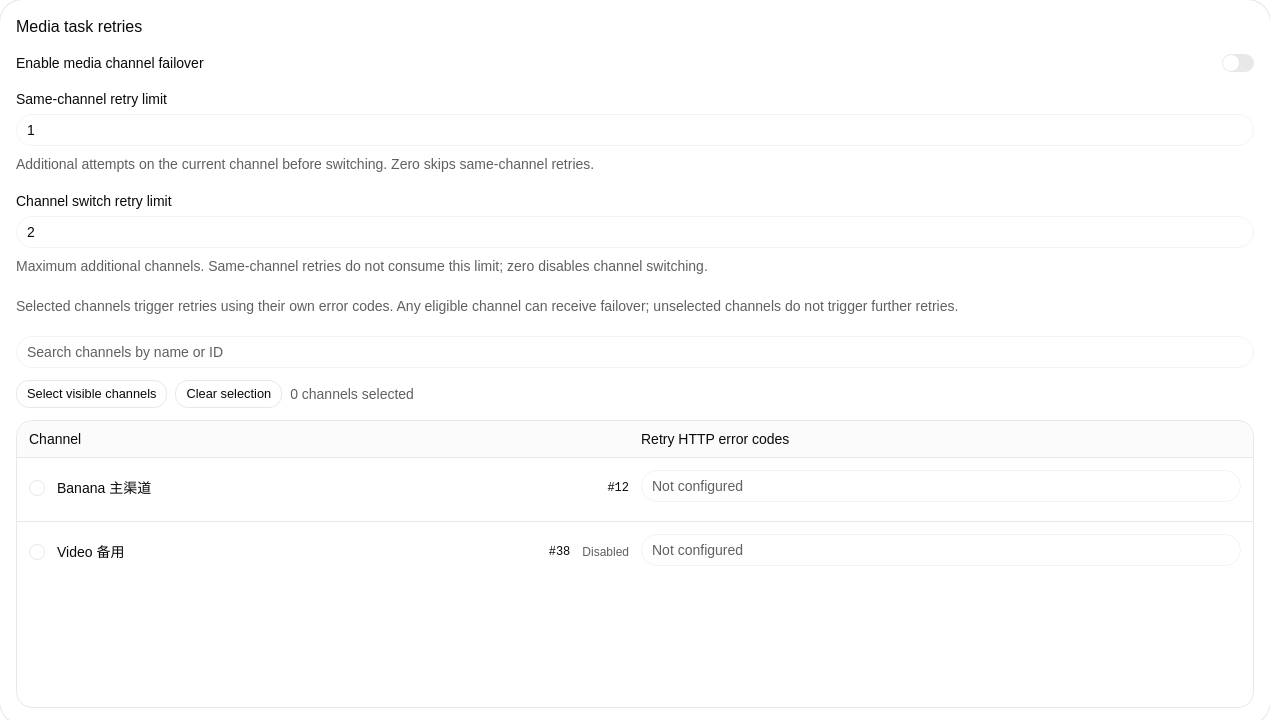
媒体换渠道重试设置 › 渠道错误码 200 无效时阻止保存
Type "200" into the field named "Retry HTTP error codes — Banana 主渠道 #12". click: (941, 486)
box: [641,470,1241,502]
(page scrolled)
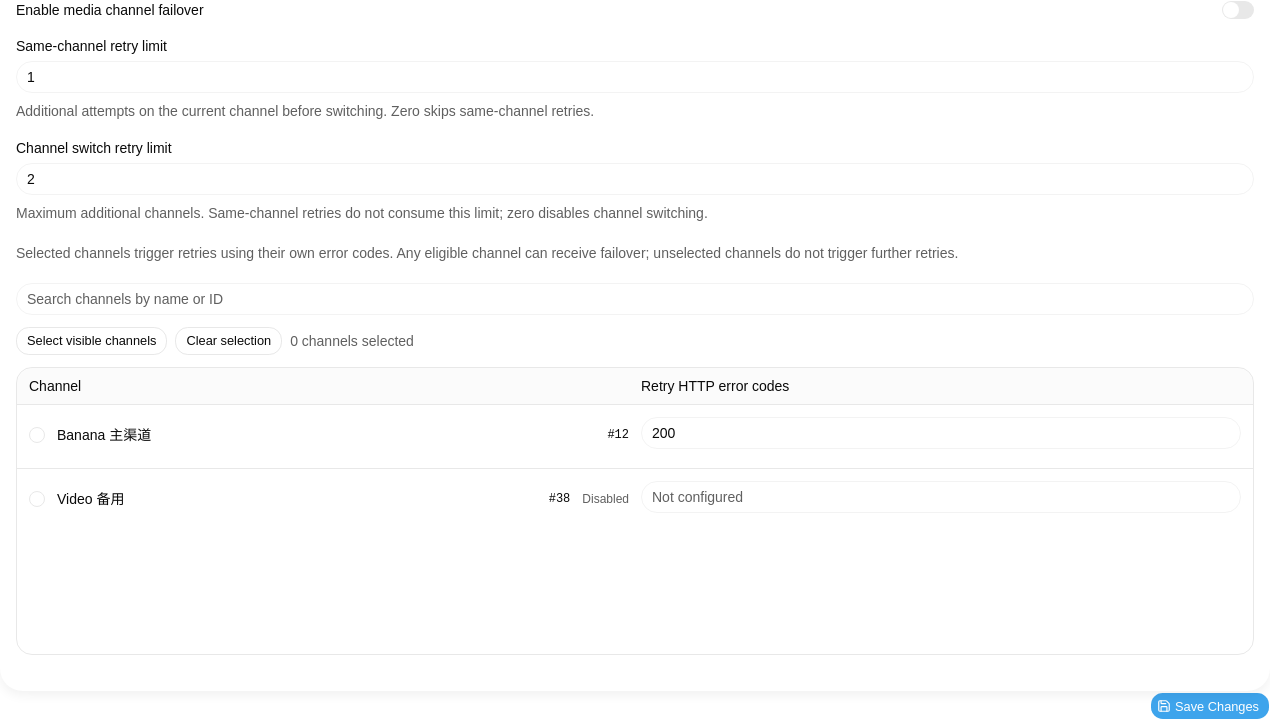
Click the button "Save Changes". click: (1210, 706)
box: [1150,692,1270,719]
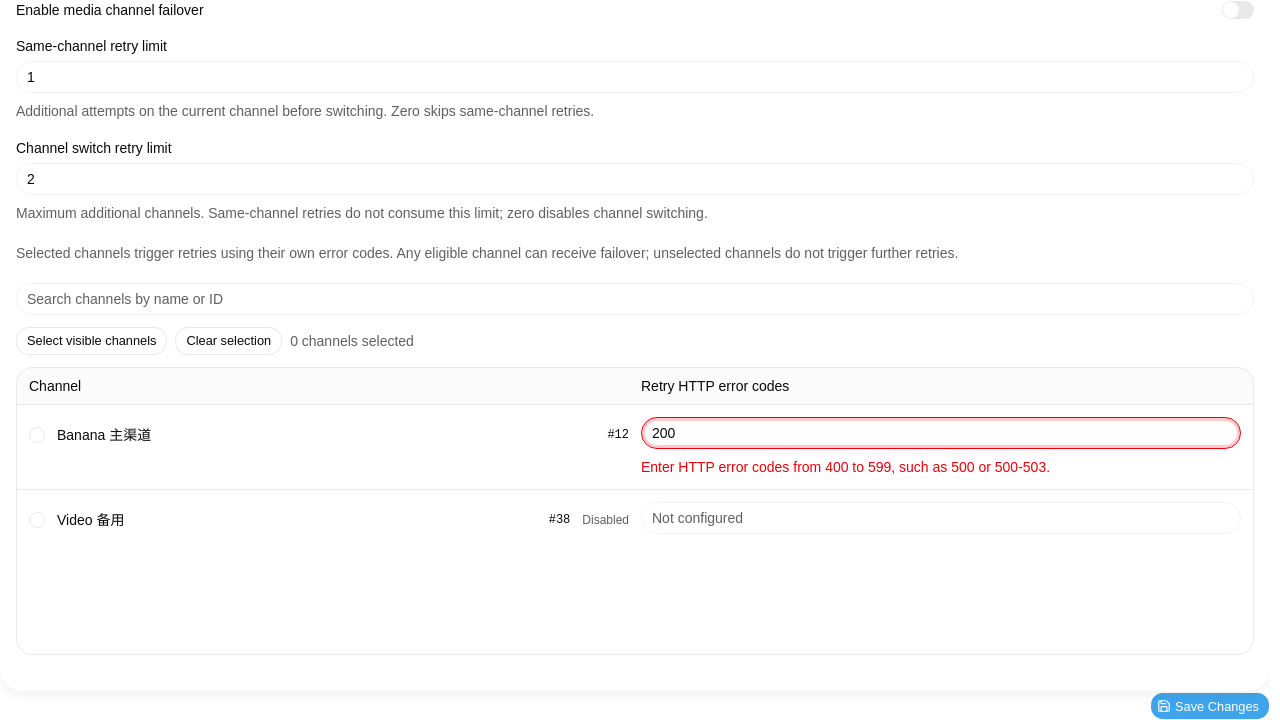
Expected: the text "Enter HTTP error codes from 400 to 599, such as 500 or 500-503." is shown, [641,459,1050,475]
